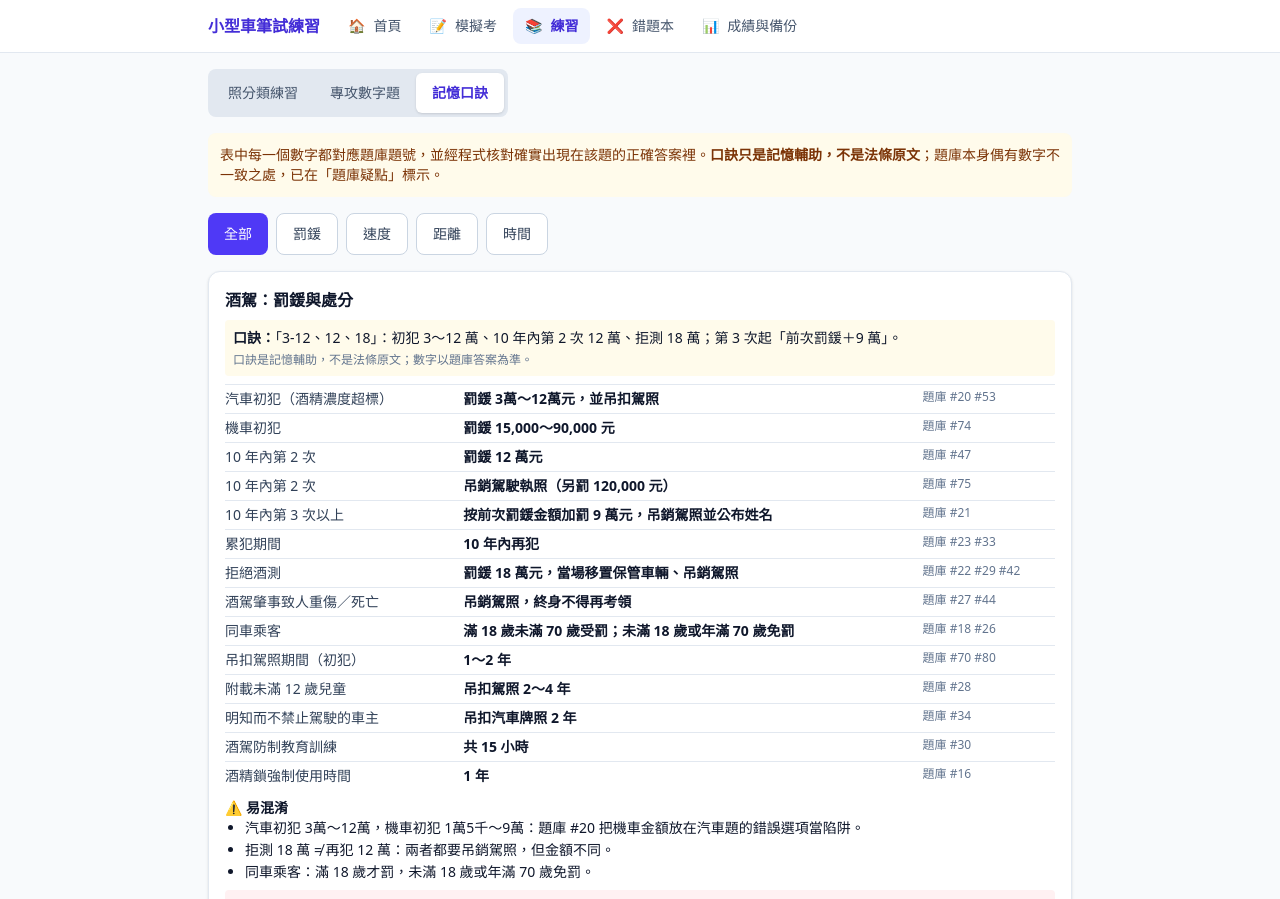
Test: 數字題特訓 › 口訣頁列出所有群組，且可依類型篩選
The image size is (1280, 899).
Check: the heading "酒駕：罰鍰與處分" is shown, box [225,289,353,311]
Click the button "速度" at (377, 234), box [346,213,408,255]
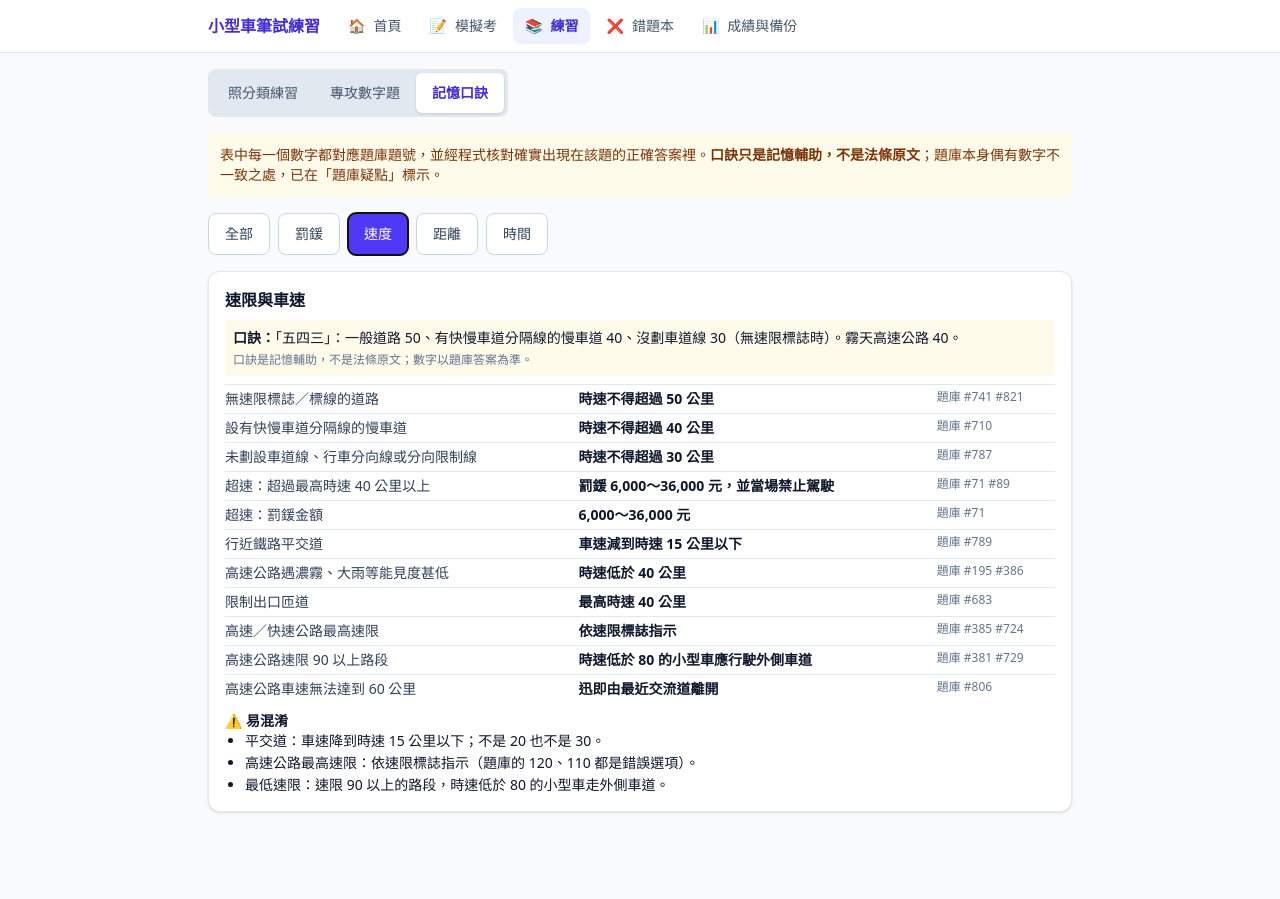
Check: the heading "速限與車速" is shown, box [225,289,305,311]
Check: the heading "酒駕：罰鍰與處分" is gone
